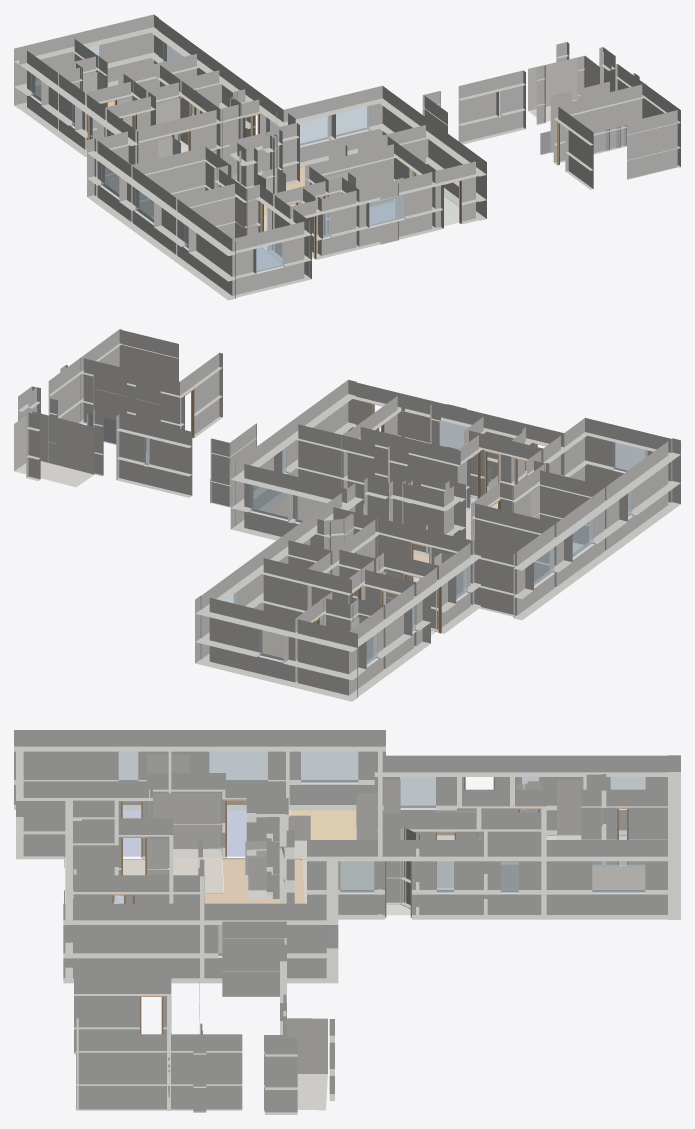
3 renders of one model, top to bottom at view 1: azimuth 30°, elevation 25°; view 2: azimuth 150°, elevation 25°; view 3: azimuth 270°, elevation 25°, orthographic. The views are drawn at different scales.
Parts seen in each view (by area): view 1: walls, furniture_11_closet, window_17, window_8, furniture_8_closet, window_14, window_25, railings, furniture_30_fireplace; view 2: walls, furniture_11_closet, window_8, floor_13_Living_Room, window_25, window_0, window_17; view 3: walls, furniture_12_closet, furniture_11_closet, floor_13_Living_Room, window_4, window_2, window_3, floor_14_Entry, floor_11_Kitchen, furniture_2_closet, floor_2_Living_Room, floor_12_Entry (+11 smaller).
Part boxes in pixels (<box>): walls: <box>14,14,680,300</box>; furniture_11_closet: <box>528,55,599,121</box>; window_17: <box>369,194,404,226</box>; window_8: <box>336,106,369,136</box>; furniture_8_closet: <box>156,98,188,147</box>; window_14: <box>298,115,329,145</box>; window_25: <box>256,242,283,272</box>; railings: <box>540,125,626,154</box>; furniture_30_fireplace: <box>263,168,285,193</box>; walls: <box>18,329,680,701</box>; furniture_11_closet: <box>14,411,94,487</box>; window_8: <box>250,485,287,519</box>; floor_13_Living_Room: <box>267,496,470,563</box>; window_25: <box>613,442,644,471</box>; window_0: <box>259,629,283,660</box>; window_17: <box>439,420,468,450</box>; walls: <box>14,730,680,1114</box>; furniture_12_closet: <box>149,793,221,857</box>; furniture_11_closet: <box>286,1018,327,1110</box>; floor_13_Living_Room: <box>204,858,305,952</box>; window_4: <box>301,751,358,782</box>; window_2: <box>592,861,645,892</box>; window_3: <box>209,751,267,781</box>; floor_14_Entry: <box>123,850,245,893</box>; floor_11_Kitchen: <box>290,810,356,859</box>; furniture_2_closet: <box>557,780,582,839</box>; floor_2_Living_Room: <box>592,866,644,889</box>; floor_12_Entry: <box>302,859,373,903</box>.
Bounding box in the file's own units: 23.96 × 2.72 × 21.79.
